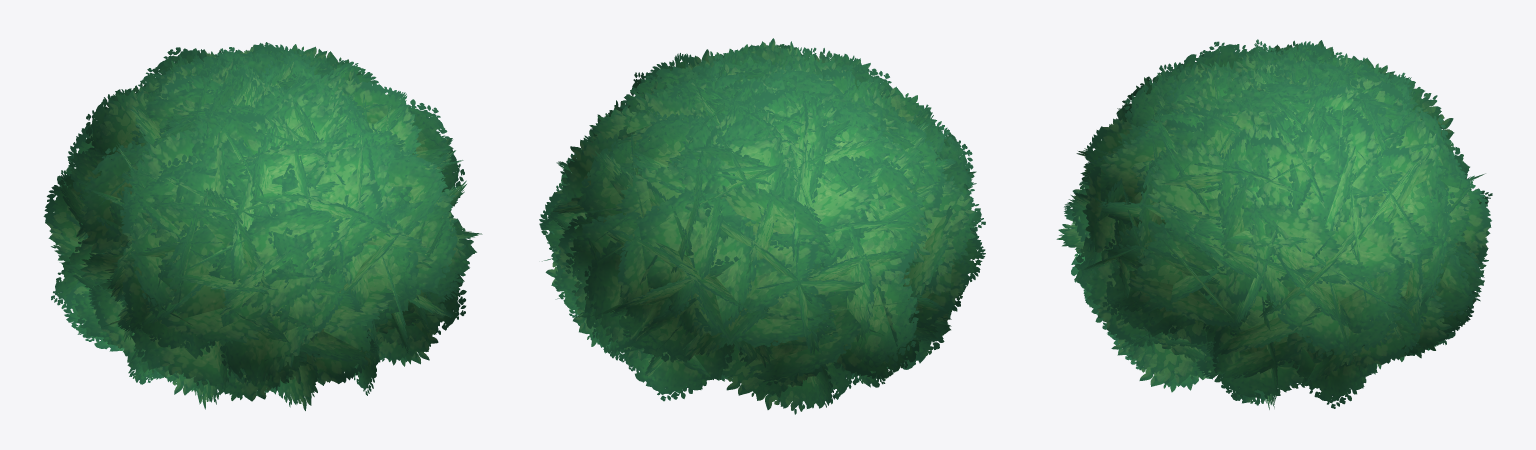
File: bush.fbx
3 renders of one model, left to right at view 1: azimuth 30°, elevation 25°; view 2: azimuth 150°, elevation 25°; view 3: azimuth 270°, elevation 25°, orthographic.
Visible parts, largest first — view 1: Bush; view 2: Bush; view 3: Bush.
Part boxes in pixels (<box>): Bush: <box>43,42,482,410</box>; Bush: <box>539,38,985,414</box>; Bush: <box>1056,39,1492,409</box>.
Size of the model in its own units: 287 by 224 by 293.
